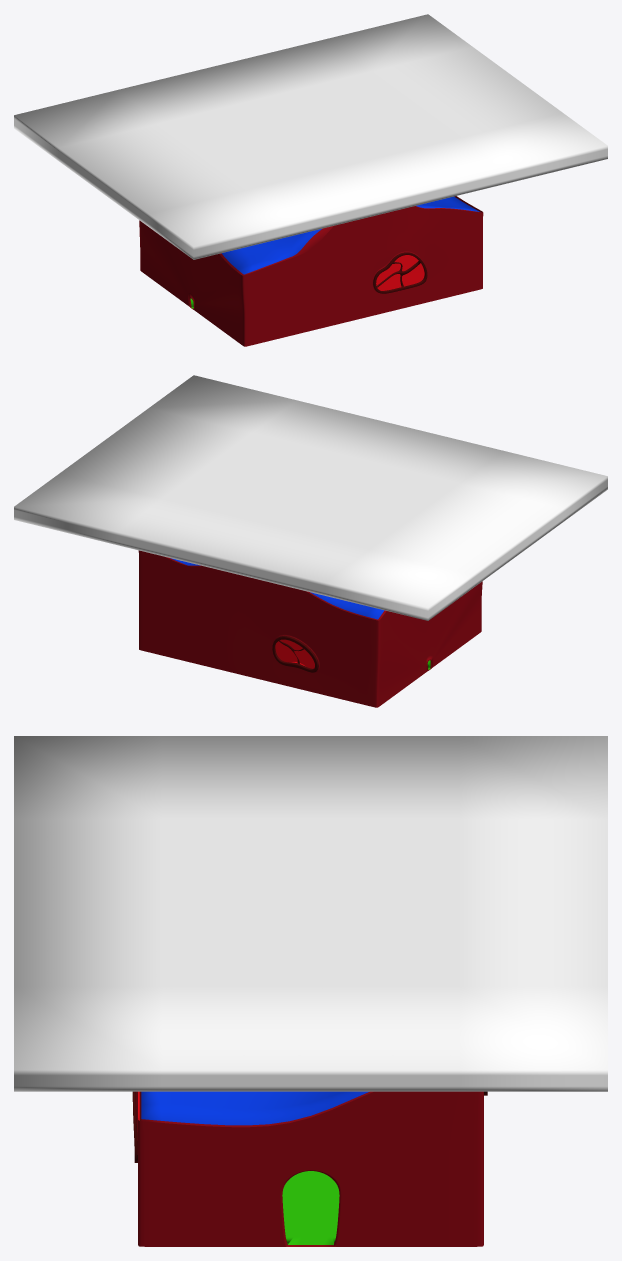
The model's file is Alice_Kitchen_Walls.fbx.
The picture shows the model from 3 angles, top to bottom: view 1: azimuth 30°, elevation 25°; view 2: azimuth 150°, elevation 25°; view 3: azimuth 270°, elevation 25°; orthographic projection. The views are drawn at different scales.
Parts seen in each view (by area): view 1: House; view 2: House; view 3: House.
Boxes of the visible parts, x1=… form: House: x1=14, y1=14, x2=607, y2=346; House: x1=14, y1=375, x2=607, y2=707; House: x1=14, y1=736, x2=607, y2=1246.
Bounding box in the file's own units: 33.11 × 24.89 × 11.4.
